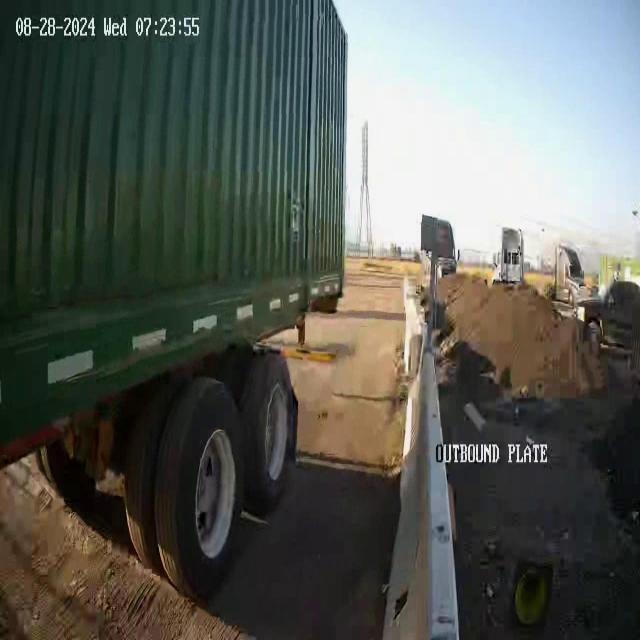TRUCK_CONTAINER: (1, 1, 350, 598)
